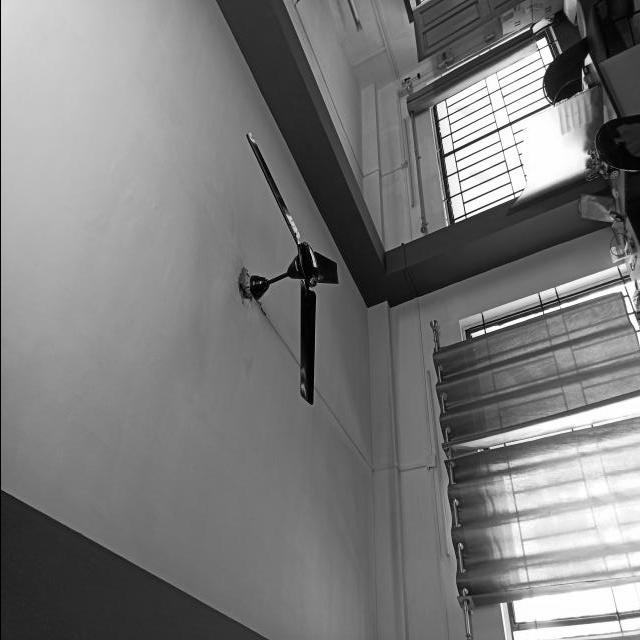fan: (236, 131, 338, 405)
